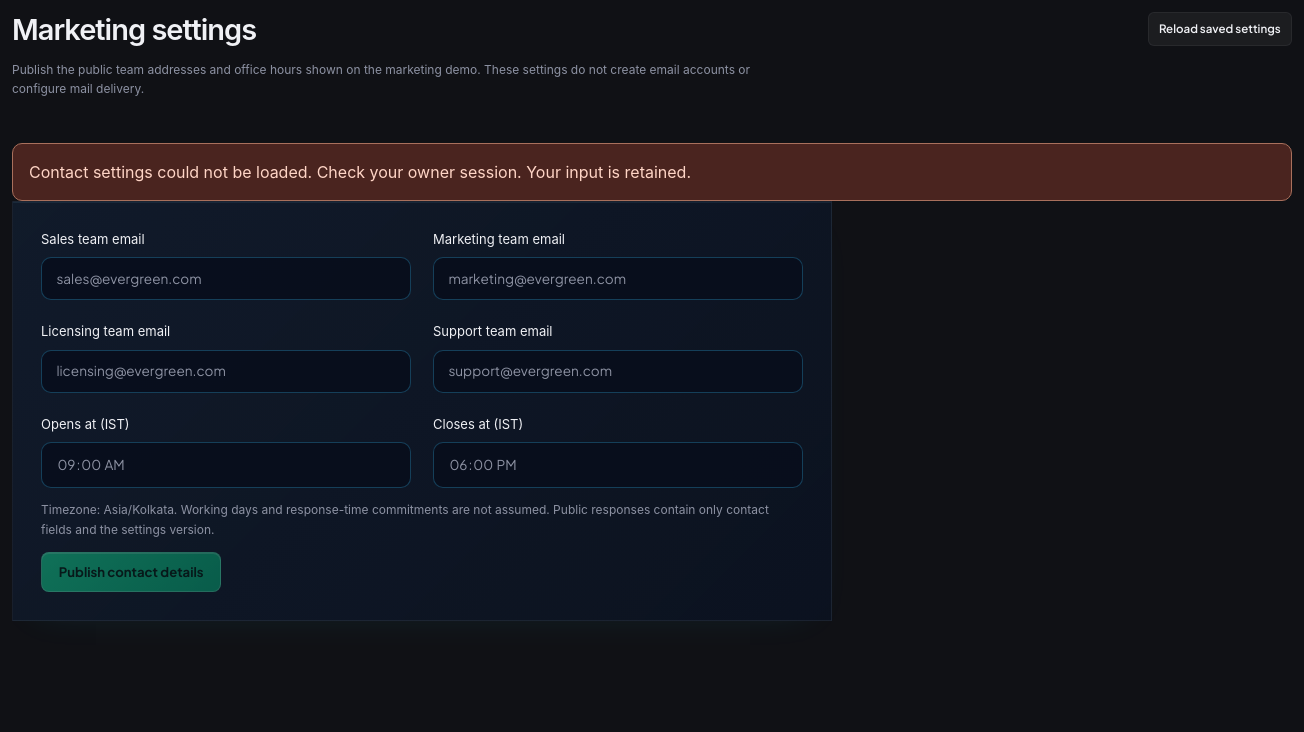
Test case: blocks publishing after a failed initial read and retains input after a conflict
Expected: the message is shown, [12,143,1292,201]
Expected: the button "Publish contact details" is disabled, [41,552,221,592]
Click the button "Reload saved settings".
click(1220, 29)  # box [1148,12,1292,46]
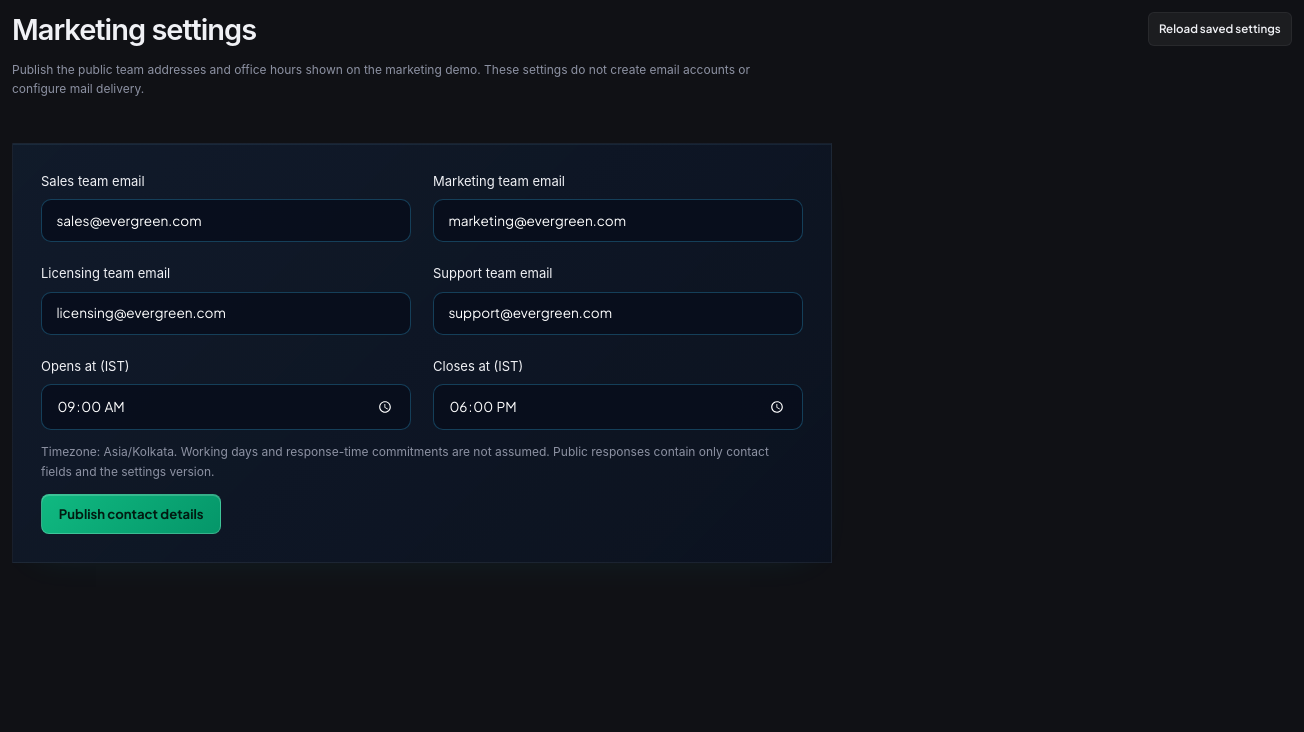
Expected: the button "Publish contact details" is enabled, [41,494,221,534]
Replace the text in the field labelled "Sales team email" with "unsaved@evergreen.com" at (226, 221), box [41,199,411,242]
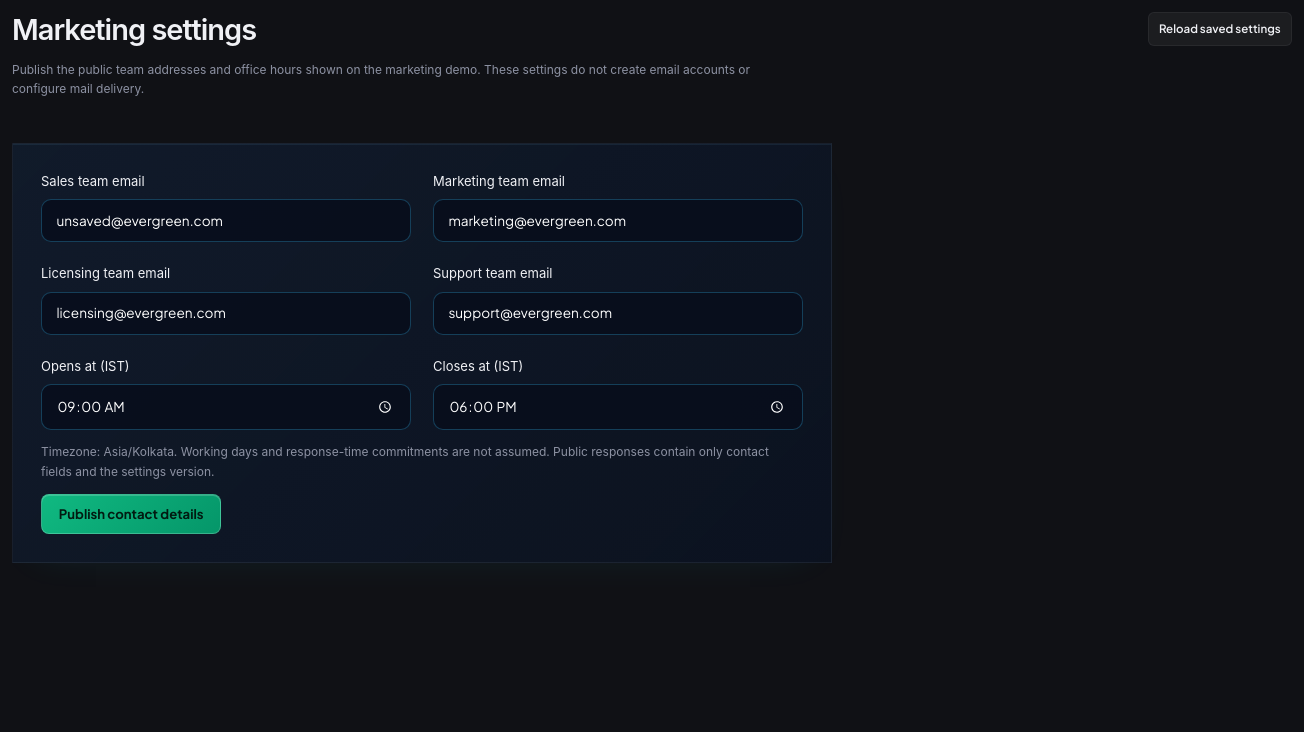
Click the button "Publish contact details".
click(131, 514)  # box [41,494,221,534]
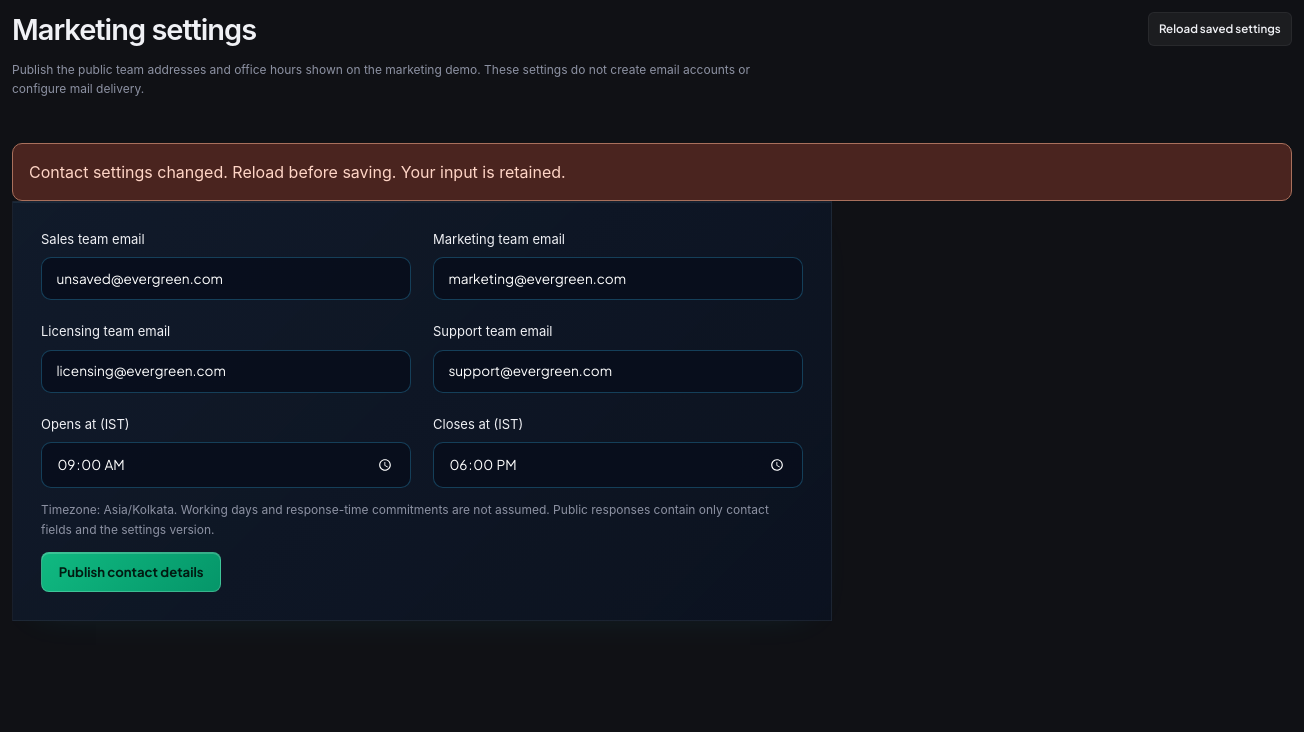
Expected: the text "Contact settings changed. Reload before saving. Your input is retained." is shown, [12,143,1292,201]
